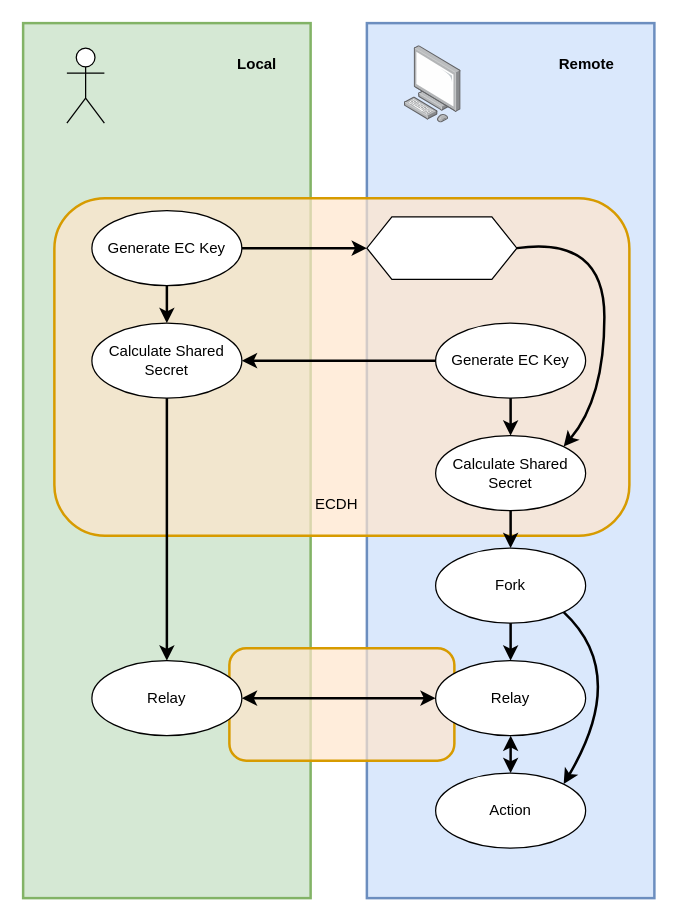
This 676x920 diagram has some shape labels left out. Each missing label, with the centre of its shape:
AES256-GCM: [341,703]
Provided at Startup: [441,247]
Target Machine: [432,83]
You: [85,85]
